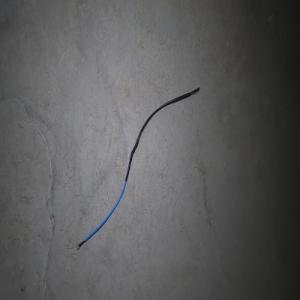Wire: (76, 86, 200, 250)
